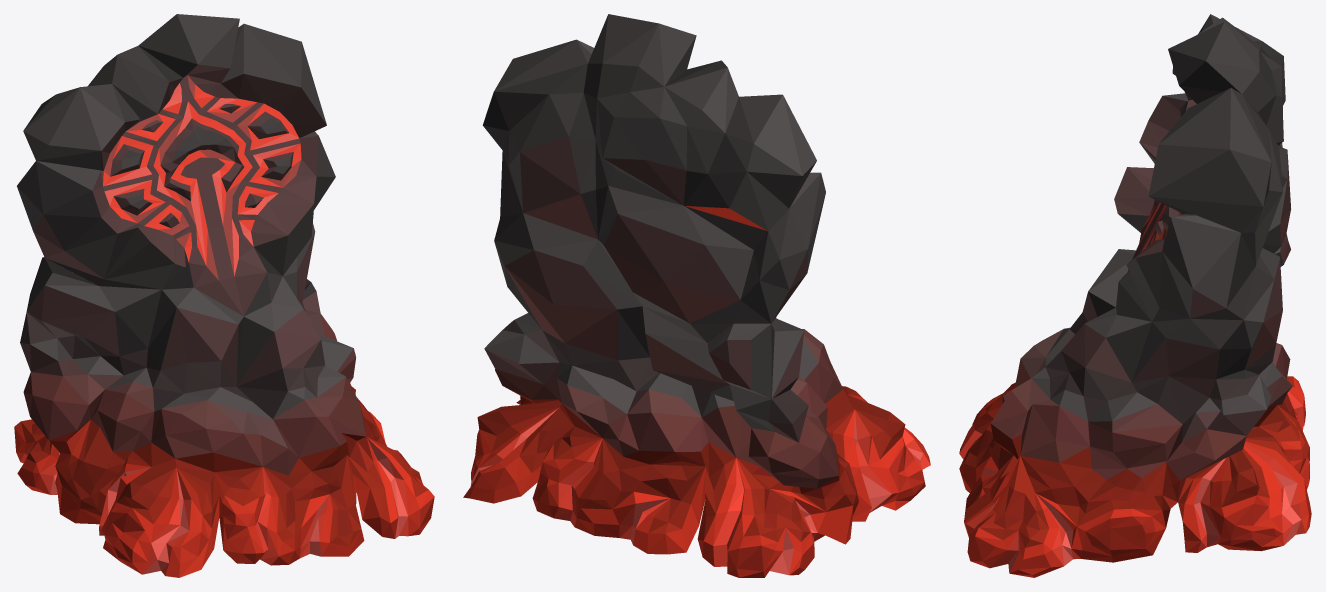
File: shield.glb
3 views of the same model, side by side, from view 1: azimuth 30°, elevation 25°; view 2: azimuth 150°, elevation 25°; view 3: azimuth 270°, elevation 25° (orthographic). The views are drawn at different scales.
Bounding box in the file's own units: 385 × 574 × 380.
Materials: 1 (1 with a texture image).
